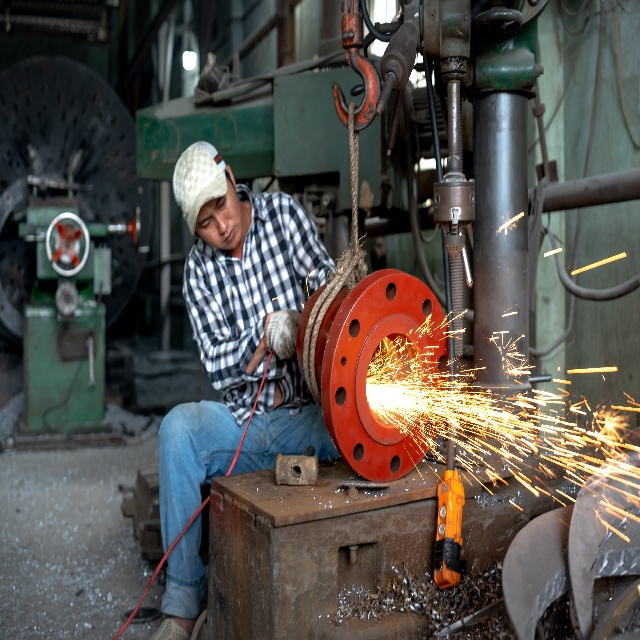Guantes: (263, 306, 302, 361)
